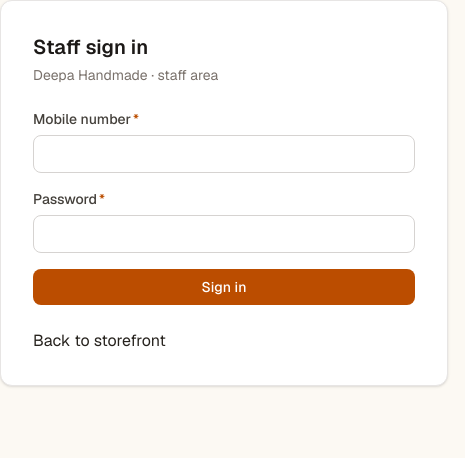
Test: SiteLogin › surfaces API errors without navigating
Type "9000000001" into the field labelled "Mobile number*" at [224, 154], box [33,135,415,173]
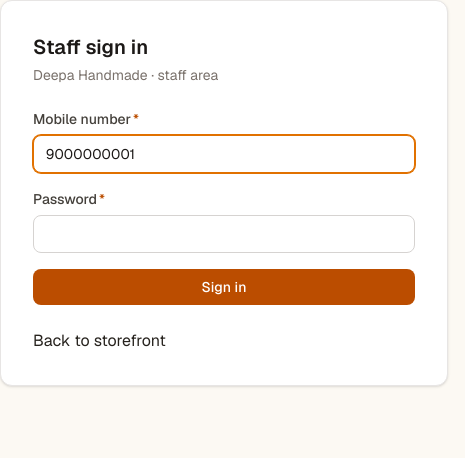
Type "bad" into the password field labelled "Password*" at [224, 234], box [33,215,415,253]
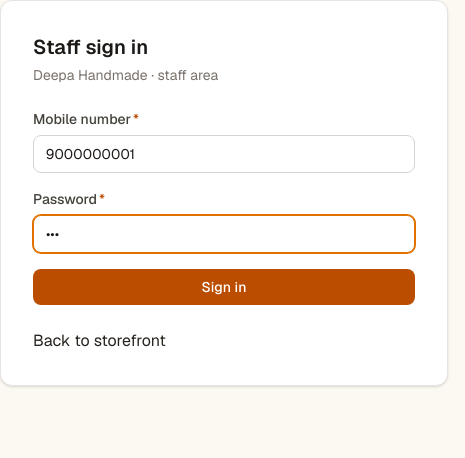
Click the button "Sign in" at [224, 287], box [33,269,415,305]
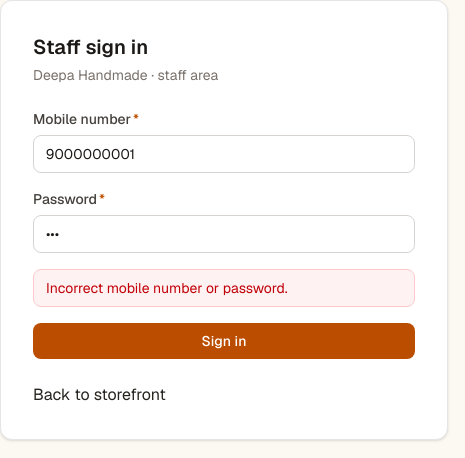
Check: the text "Incorrect mobile number or password." is shown, box [33,269,415,307]
